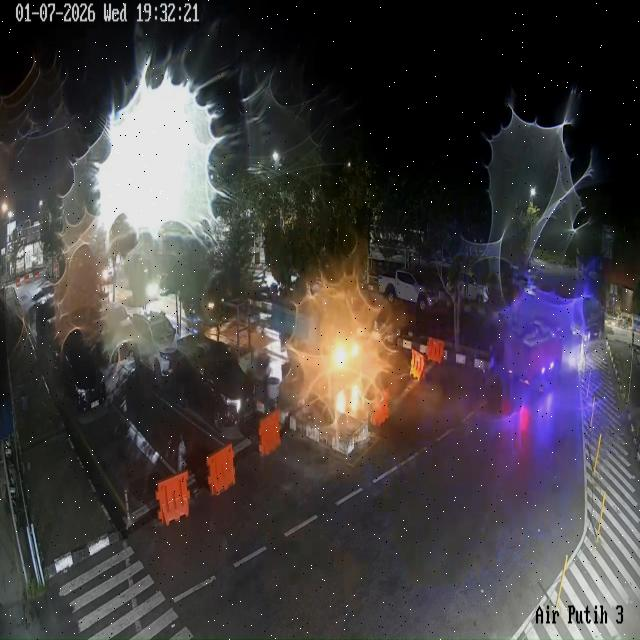Golongan IVA: (173, 335, 256, 432), (60, 330, 107, 412), (131, 311, 177, 384)
Golongan IVB: (378, 270, 438, 311), (571, 295, 605, 341)
Golongan VB: (491, 294, 566, 408)
